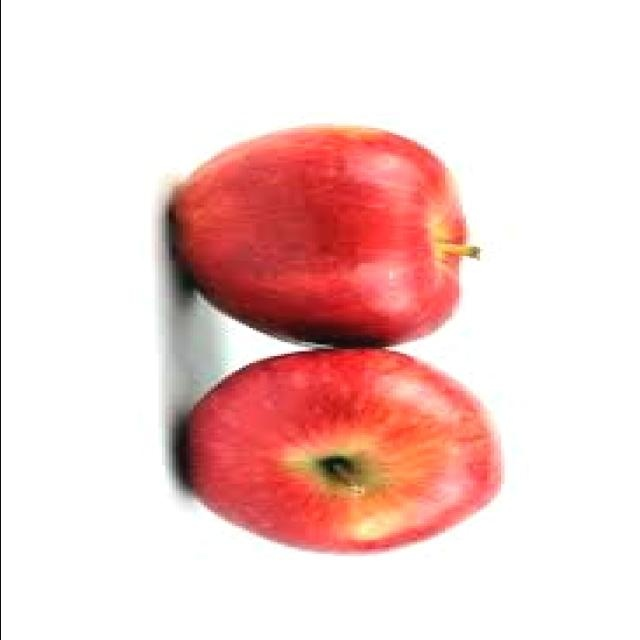agrume: (125, 332, 535, 568), (165, 100, 515, 372)
